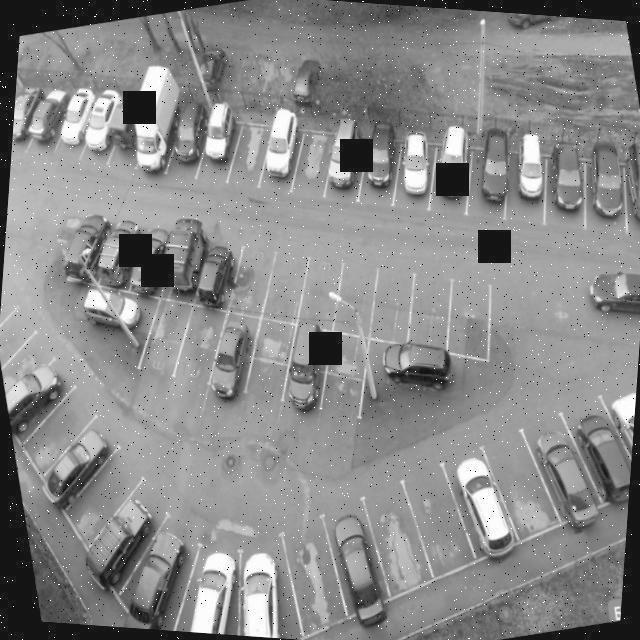space-empty: (346, 470, 451, 609), (466, 416, 573, 545), (389, 455, 486, 583), (273, 514, 357, 638), (52, 446, 151, 549), (4, 382, 109, 473), (387, 259, 465, 362), (161, 300, 240, 391), (233, 313, 309, 407), (320, 252, 392, 347), (356, 253, 423, 351), (128, 297, 203, 384), (249, 237, 316, 330), (429, 277, 502, 362), (314, 330, 380, 422), (287, 247, 352, 336), (218, 244, 282, 321), (219, 121, 286, 186), (283, 133, 350, 196)
space-occupied: (95, 506, 222, 634), (66, 475, 186, 602), (426, 431, 534, 570), (510, 401, 619, 538), (304, 489, 408, 630), (215, 524, 321, 640), (156, 527, 258, 636), (548, 388, 636, 514), (26, 411, 140, 508), (268, 321, 342, 421), (0, 347, 82, 434), (105, 217, 183, 306), (588, 366, 638, 501), (188, 314, 265, 401), (41, 207, 120, 288), (182, 226, 253, 311), (149, 224, 221, 303), (78, 212, 146, 294), (69, 93, 133, 165), (42, 92, 103, 165), (417, 147, 486, 211), (155, 111, 215, 184), (121, 109, 181, 180), (14, 82, 73, 153), (571, 163, 634, 229), (384, 140, 449, 203), (312, 139, 379, 200), (185, 122, 251, 183), (348, 139, 409, 205), (252, 128, 314, 191), (533, 160, 594, 223), (457, 151, 518, 212), (96, 103, 151, 169), (496, 153, 550, 211), (12, 84, 53, 152), (613, 160, 640, 233)
